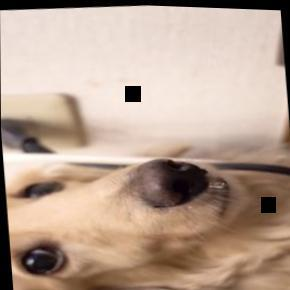nasal_discharge: (180, 159, 226, 192)
